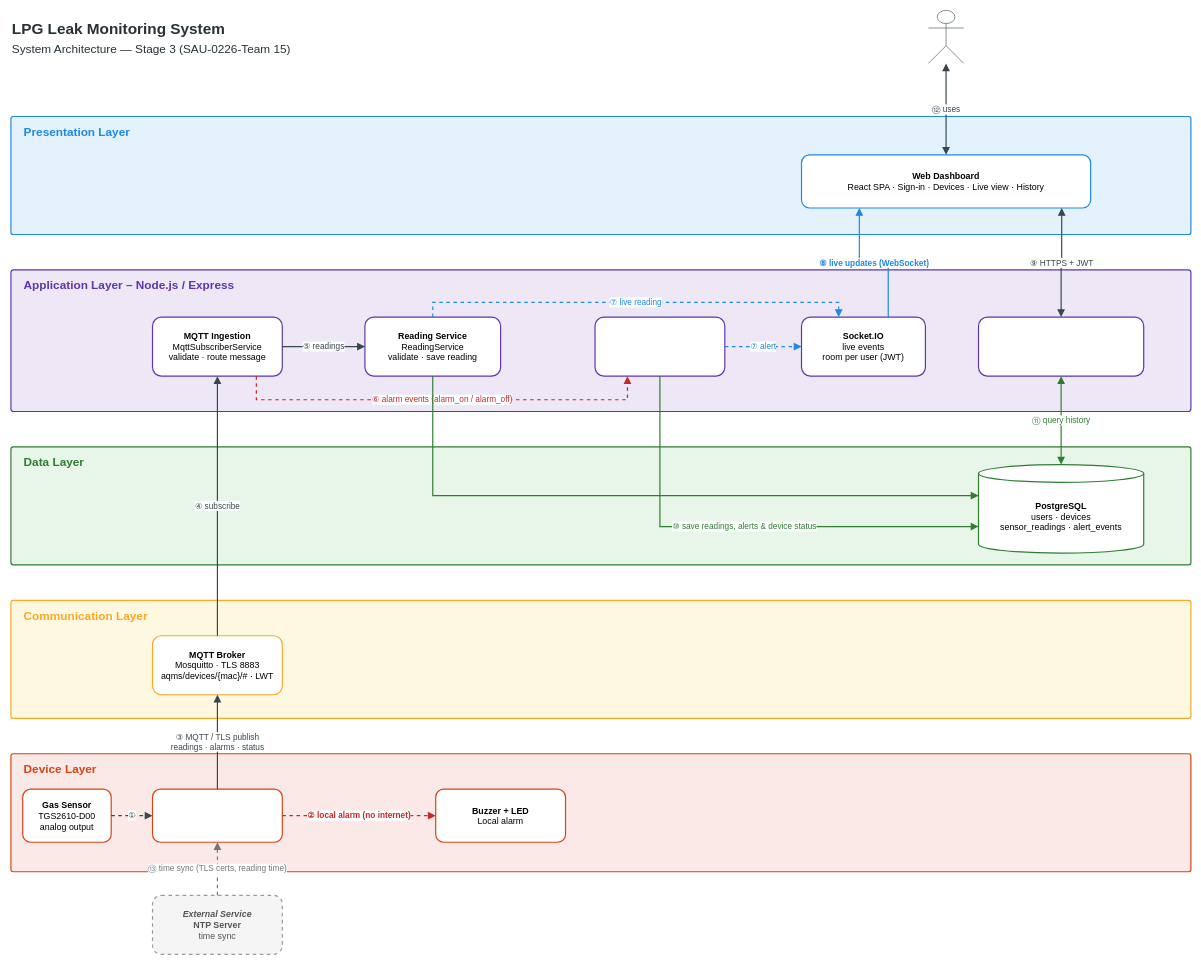
The diagram is 1201 pixels wide and 965 high, and some of its shapes have lost their labels. The centre of each missing label's shape, as x and y in pixels:
Alert Service AlertService open / close alert episode: the point at 659,346
ESP32 DevKit V1 · 12-bit ADC: the point at 217,815
REST API + Auth Express /api/v1 · JWT · bcrypt Auth · Device · Reading · Alert: the point at 1061,346
Restaurant / Home User: the point at 946,36
